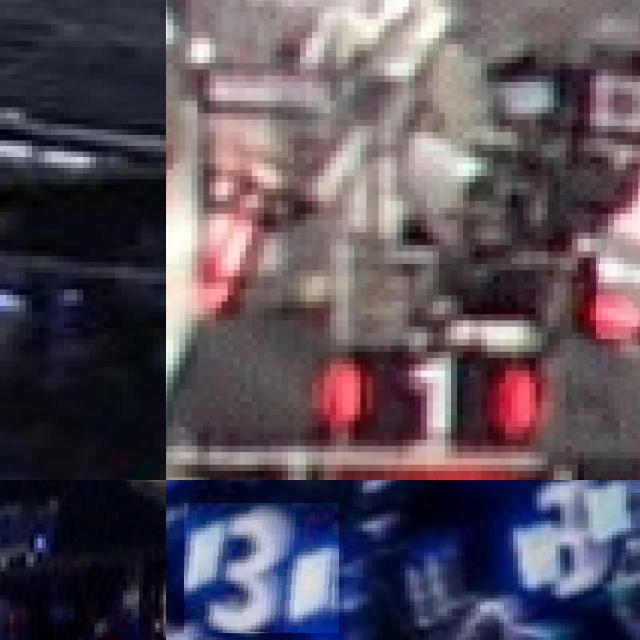B3: (184, 504, 339, 634), (508, 480, 635, 594)
R1: (318, 352, 536, 433), (595, 226, 640, 339)
